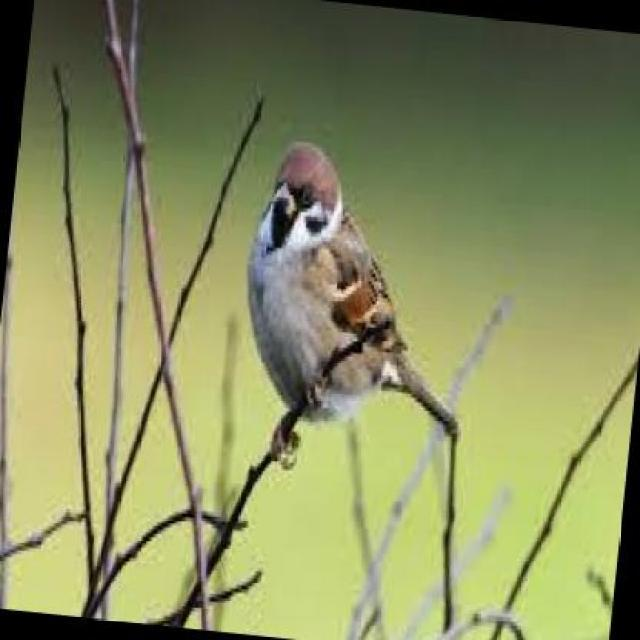Bird: (242, 121, 473, 494)
